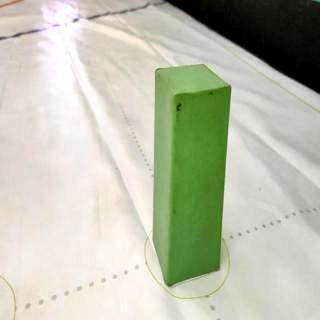greenbox: (152, 64, 232, 288)
